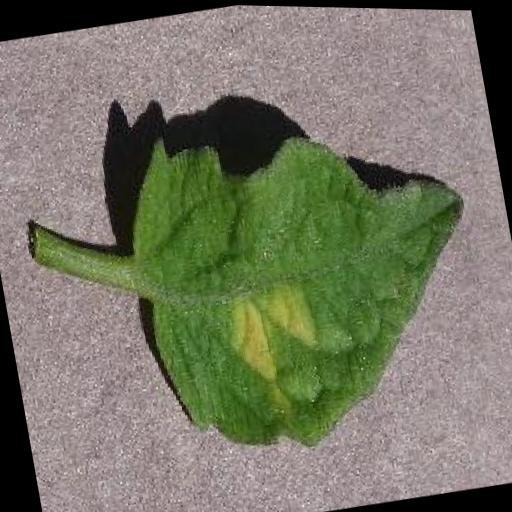Leaf Mold: (118, 93, 502, 470)
